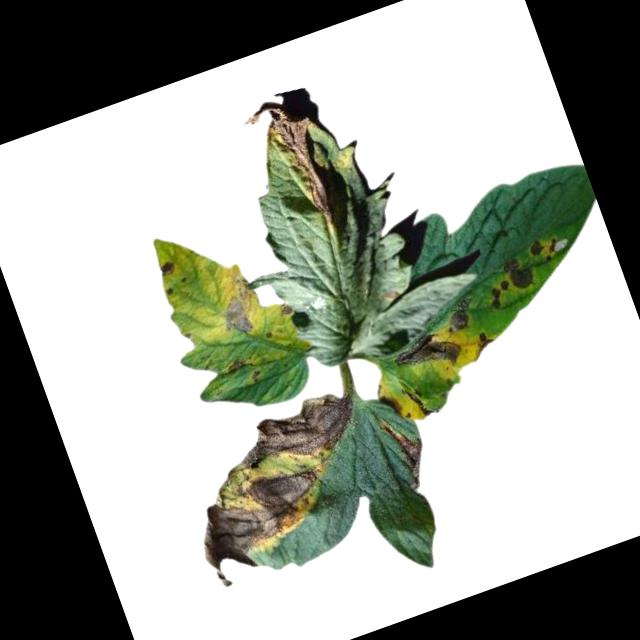Early_blight: (184, 454, 359, 593), (202, 381, 370, 492), (239, 89, 348, 244), (376, 414, 437, 497), (388, 322, 465, 385), (211, 273, 267, 345), (444, 295, 482, 337), (501, 253, 539, 295), (527, 234, 563, 266), (483, 279, 515, 311), (467, 325, 498, 358), (377, 390, 406, 420), (222, 353, 252, 377), (155, 259, 179, 282), (243, 367, 264, 386)
